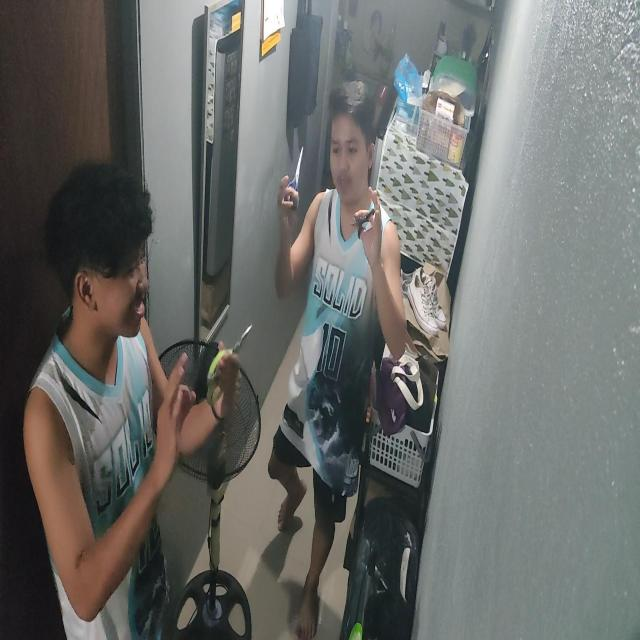scissor: (206, 318, 257, 407), (287, 144, 307, 210)
